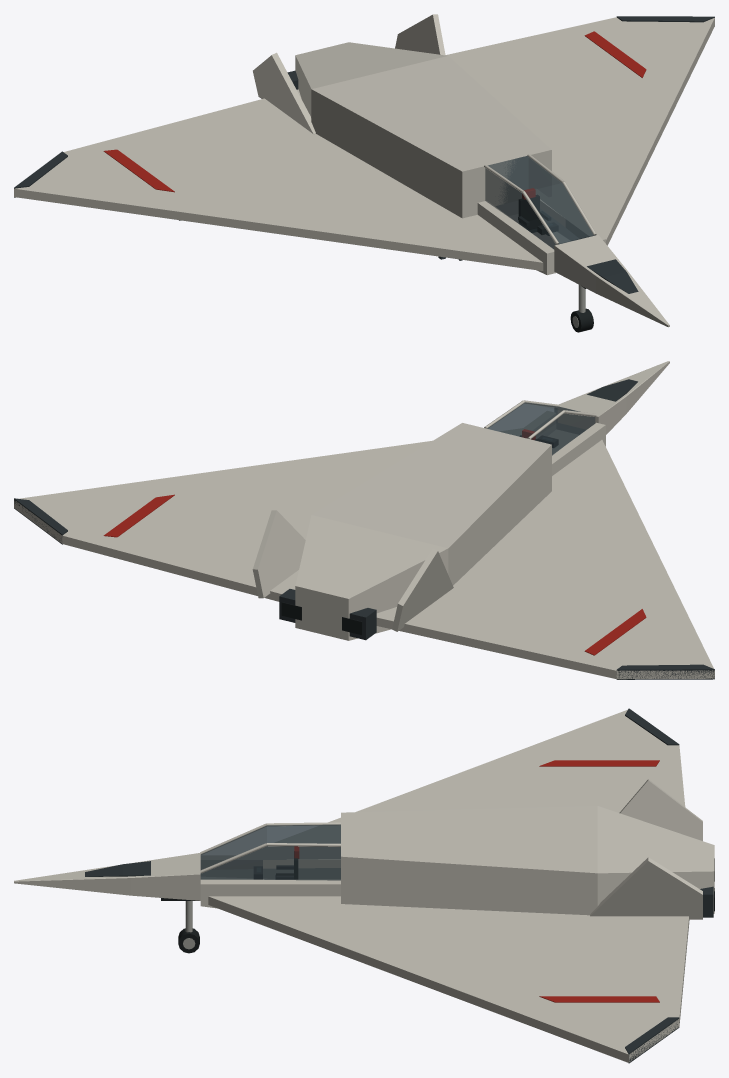
3 views of the same model, one above another, from view 1: azimuth 30°, elevation 25°; view 2: azimuth 150°, elevation 25°; view 3: azimuth 270°, elevation 25° (orthographic).
Parts seen in each view (by area): view 1: drone-carrier-painted, drone-carrier-glazing, carrier-fin--1-painted, carrier-fin-1-painted, crew-chair-pilot-painted, landing-gear-nose-painted; view 2: drone-carrier-painted, carrier-fin-1-painted, drone-carrier-glazing, carrier-fin--1-painted; view 3: drone-carrier-painted, drone-carrier-glazing, carrier-fin-1-painted, carrier-fin--1-painted, landing-gear-nose-painted.
Boxes of the visible parts, bbox=[...] form: drone-carrier-painted: bbox=[14, 16, 714, 327]; drone-carrier-glazing: bbox=[485, 156, 595, 249]; carrier-fin--1-painted: bbox=[253, 52, 315, 134]; carrier-fin-1-painted: bbox=[395, 14, 445, 55]; crew-chair-pilot-painted: bbox=[518, 188, 558, 235]; landing-gear-nose-painted: bbox=[570, 285, 593, 332]; drone-carrier-painted: bbox=[14, 361, 714, 679]; carrier-fin-1-painted: bbox=[252, 510, 305, 598]; drone-carrier-glazing: bbox=[487, 402, 595, 455]; carrier-fin--1-painted: bbox=[392, 548, 453, 631]; drone-carrier-painted: bbox=[14, 708, 714, 1063]; drone-carrier-glazing: bbox=[200, 824, 340, 880]; carrier-fin-1-painted: bbox=[590, 857, 702, 919]; carrier-fin--1-painted: bbox=[619, 779, 702, 840]; landing-gear-nose-painted: bbox=[178, 901, 199, 953].
Bounding box in the file's own units: 110 × 19.63 × 94.74.
